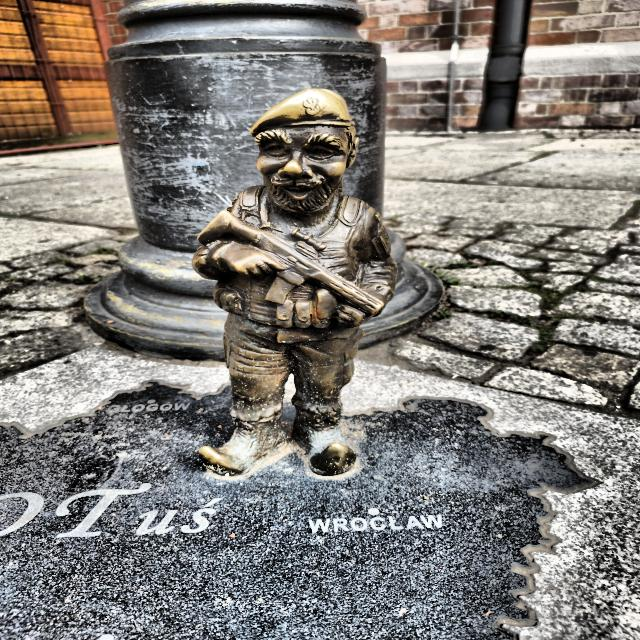WOTus: (193, 89, 397, 476)
